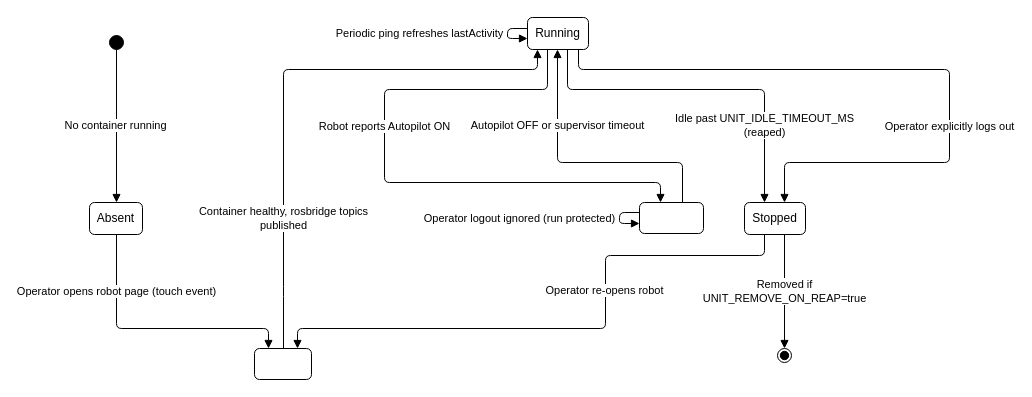
The diagram is 1032 pixels wide and 397 high, and some of its shapes have lost their labels. The shapes that lost their labels are listed below. From the top down, each one's centre as x and y in pixels, then its label:
point (671, 218): Retained
point (283, 364): Starting
